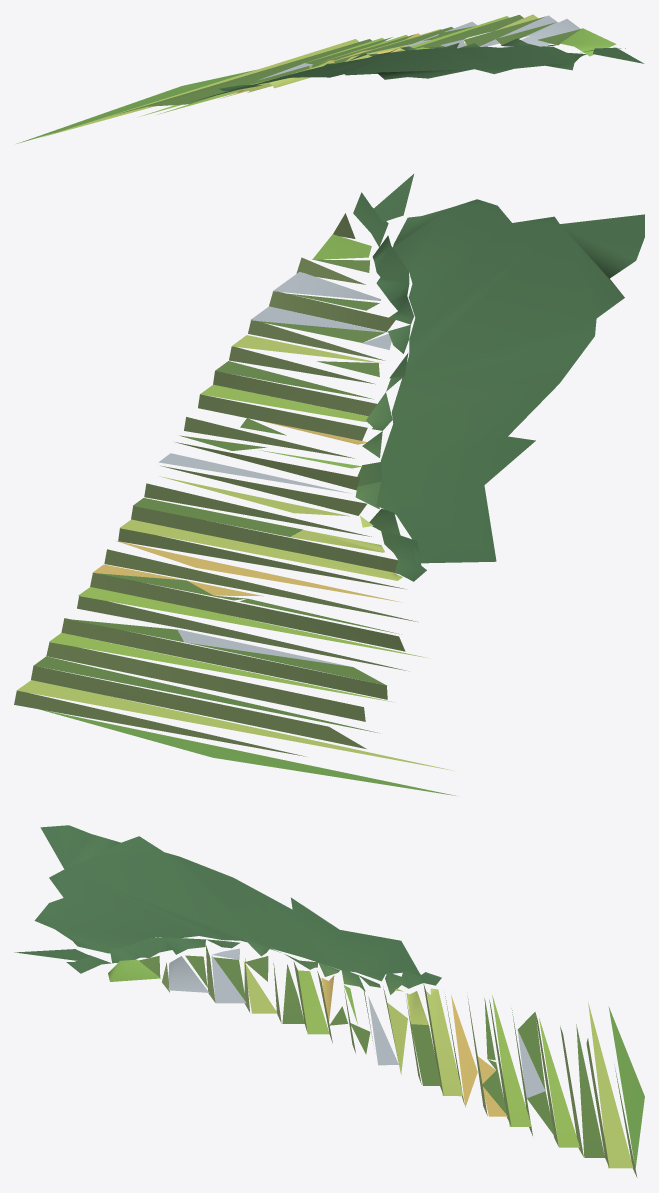
File: payo_land_xm5_y9_lod2.glb
3 renders of one model, top to bottom at view 1: azimuth 30°, elevation 25°; view 2: azimuth 150°, elevation 25°; view 3: azimuth 270°, elevation 25°, orthographic. The views are drawn at different scales.
Visible parts, largest first — view 1: payo_land_xm5_y9; view 2: payo_land_xm5_y9; view 3: payo_land_xm5_y9.
Boxes of the visible parts, x1,y1,x2,y2 form: payo_land_xm5_y9: (16,14,644,143); payo_land_xm5_y9: (14,174,644,796); payo_land_xm5_y9: (14,825,644,1177).
Bounding box in the file's own units: 182 × 117 × 277.
